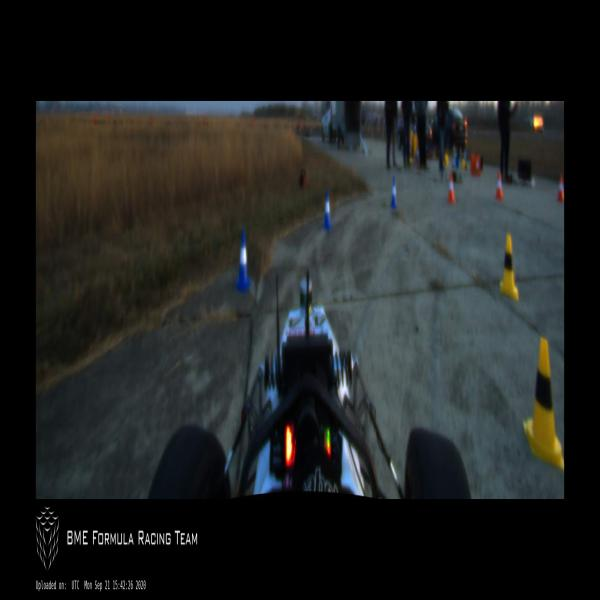blue_cone: (234, 228, 251, 294), (322, 191, 331, 230), (390, 177, 397, 208)
orange_cone: (494, 172, 503, 200), (556, 174, 564, 204), (448, 174, 455, 202)
yellow_cone: (523, 336, 564, 469), (500, 235, 518, 302)
